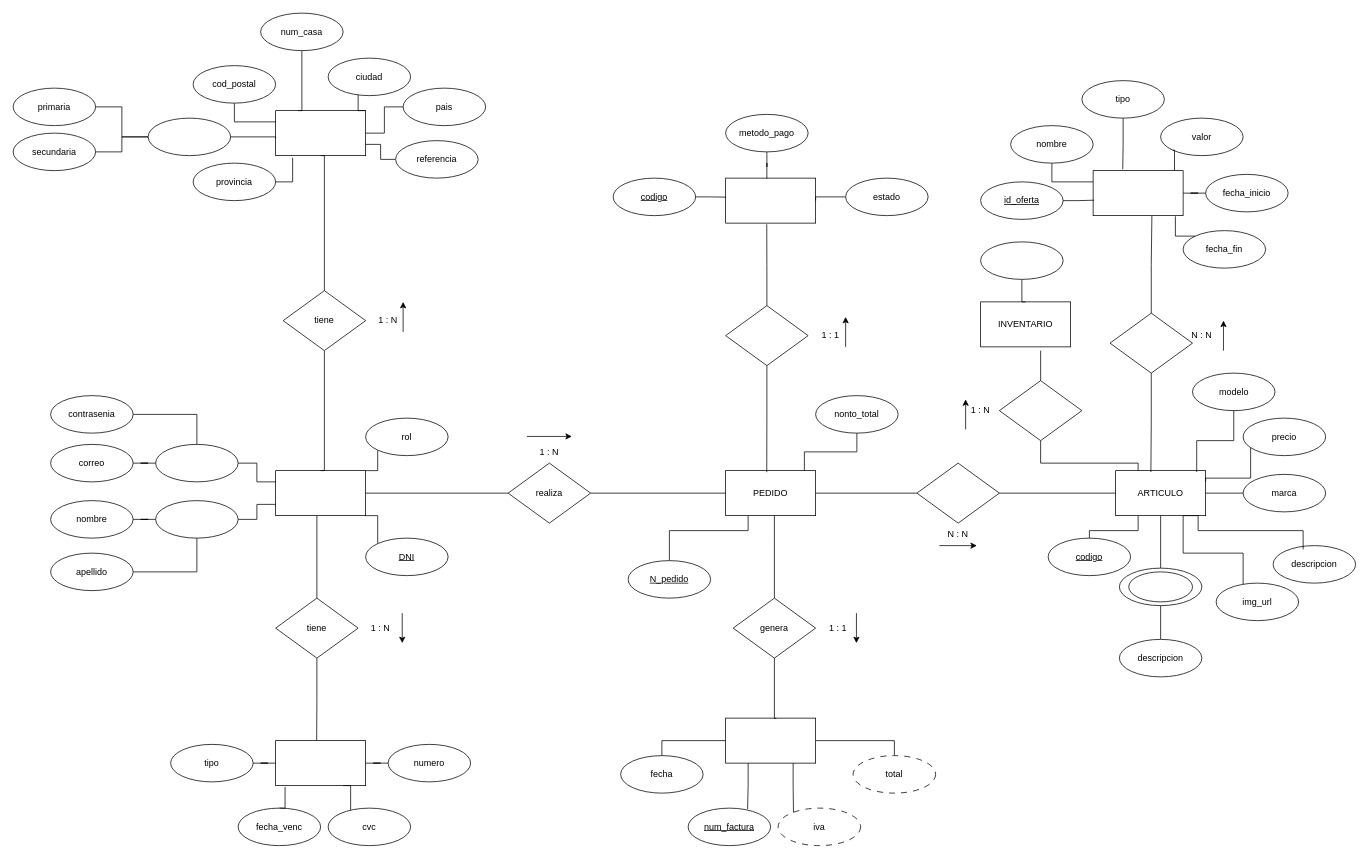
Some shapes in this 1369 by 859 pixel diagram are drawn without their labels. Each missing label, with the centre of its shape:
calle: pixel 189 136
cantidad: pixel 1021 260
categoria: pixel 1160 586
contiene: pixel 957 492
cuenta: pixel 196 463
DIRECCION: pixel 320 133
está: pixel 1150 342
FACTURA: pixel 770 740
nombres: pixel 196 519
OFERTA: pixel 1137 193
PAGO: pixel 770 200
pertenece: pixel 1040 410
requiere: pixel 766 335
TARJETA: pixel 320 763
USUARIO: pixel 320 493
